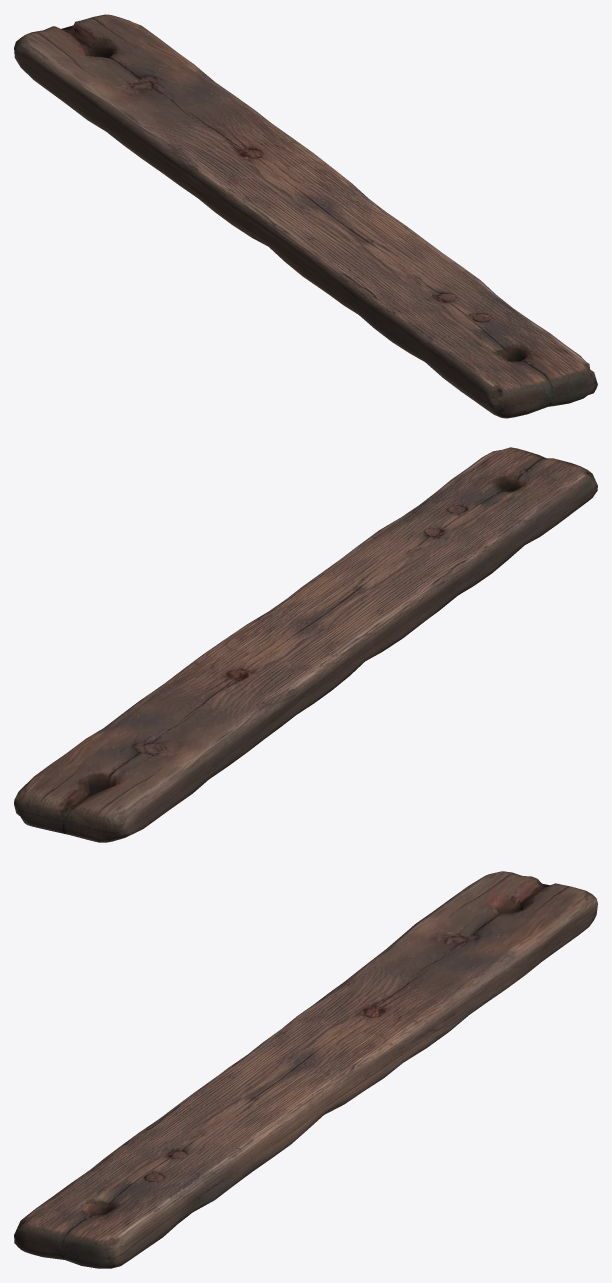
The model's file is planche.glb.
3 views of the same model, one above another, from view 1: azimuth 30°, elevation 25°; view 2: azimuth 150°, elevation 25°; view 3: azimuth 330°, elevation 25° (orthographic).
Parts seen in each view (by area): view 1: tripo_node_d2ffb405-d10d-4a13-9cc5-3bc273a88068; view 2: tripo_node_d2ffb405-d10d-4a13-9cc5-3bc273a88068; view 3: tripo_node_d2ffb405-d10d-4a13-9cc5-3bc273a88068.
Boxes of the visible parts, box(x1,y1,x2,y2) form: tripo_node_d2ffb405-d10d-4a13-9cc5-3bc273a88068: box(14, 14, 597, 418); tripo_node_d2ffb405-d10d-4a13-9cc5-3bc273a88068: box(14, 447, 597, 842); tripo_node_d2ffb405-d10d-4a13-9cc5-3bc273a88068: box(14, 871, 597, 1268).
Bounding box in the file's own units: 0.1315 × 0.0381 × 0.9804.
Materials: 1 (1 with a texture image).
